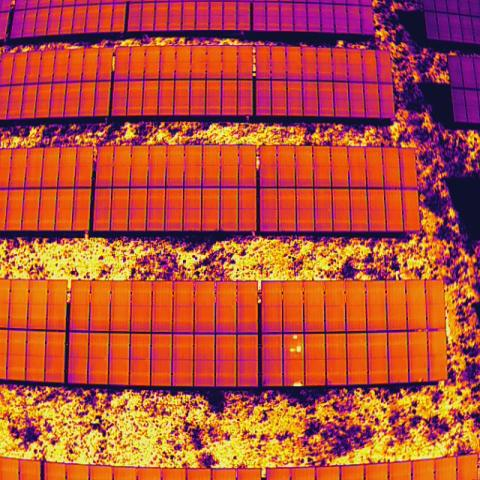fault: (291, 381, 303, 387), (296, 345, 302, 353), (288, 347, 296, 353), (292, 334, 299, 340)
